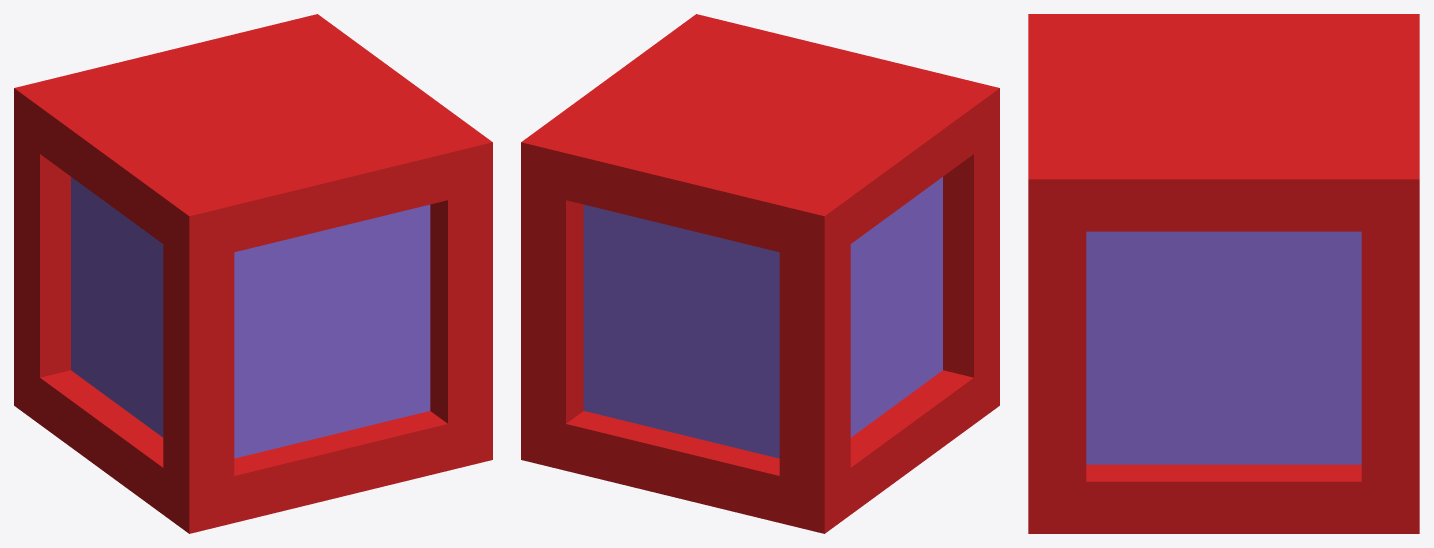
File: block1.glb
3 renders of one model, left to right at view 1: azimuth 30°, elevation 25°; view 2: azimuth 150°, elevation 25°; view 3: azimuth 270°, elevation 25°, orthographic. The views are drawn at different scales.
Parts seen in each view (by area): view 1: Cube; view 2: Cube; view 3: Cube.
Boxes of the visible parts, x1,y1,x2,y2 form: Cube: (14, 14, 492, 533); Cube: (521, 14, 999, 533); Cube: (1028, 14, 1419, 533).
Bounding box in the file's own units: 2 × 2 × 2.
